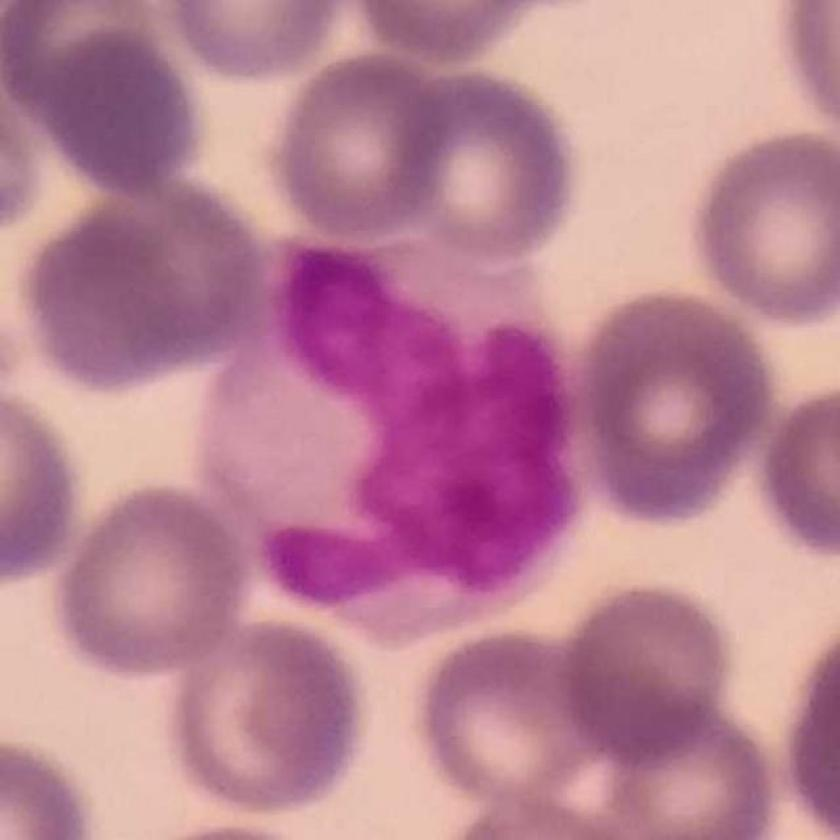monocyte: (197, 215, 594, 657)
